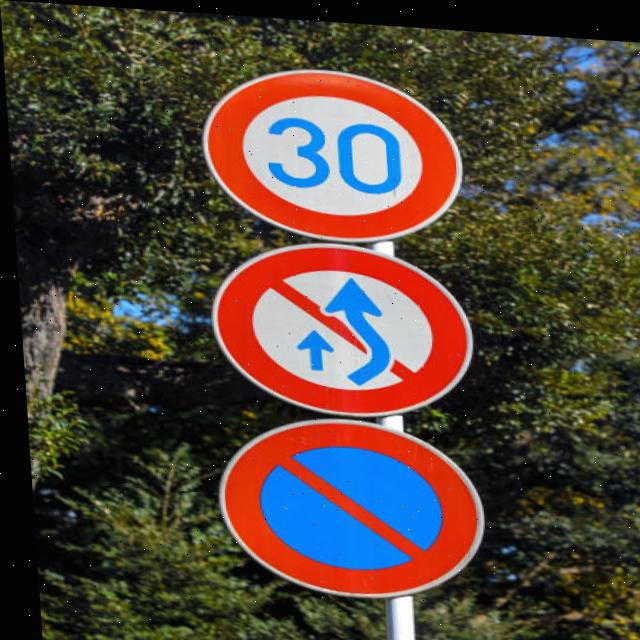Speed limit 30: (193, 57, 468, 245)
